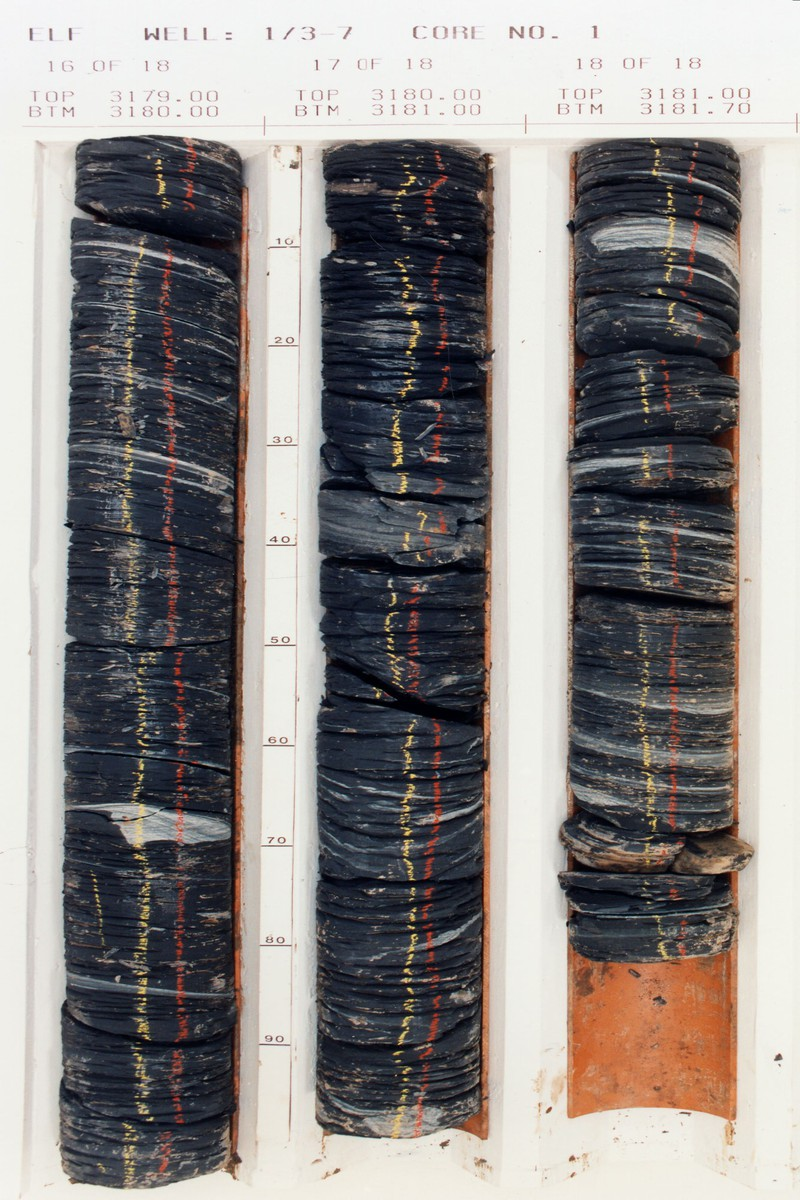core: (58, 135, 254, 1192), (313, 138, 492, 1147), (558, 137, 754, 967)
